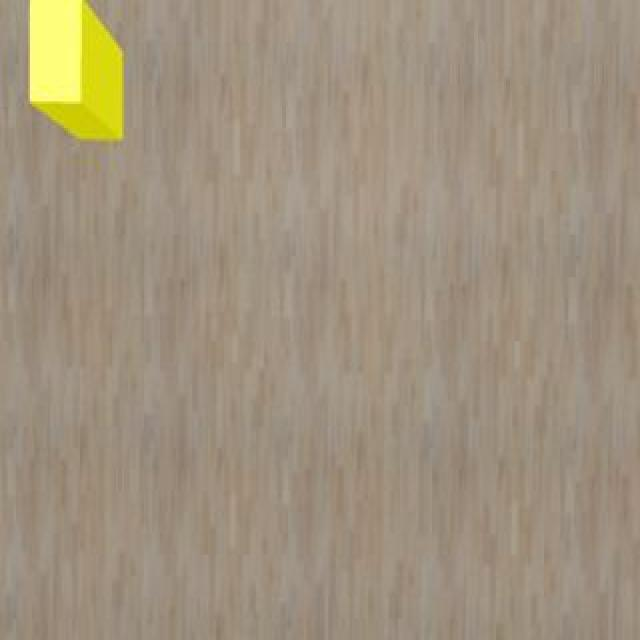cube-cAb5: (25, 0, 127, 143)
